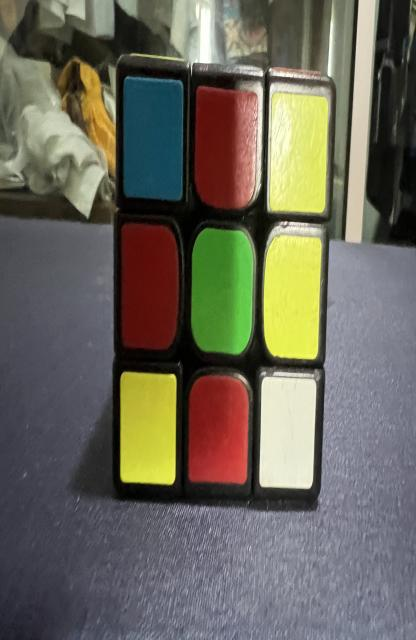Blue: (123, 77, 184, 202)
Green: (191, 228, 254, 355)
Red: (194, 87, 258, 208), (121, 222, 179, 350), (188, 375, 249, 485)
White: (259, 372, 316, 488)
Yellow: (263, 235, 322, 360), (270, 92, 328, 213), (120, 372, 177, 485)
